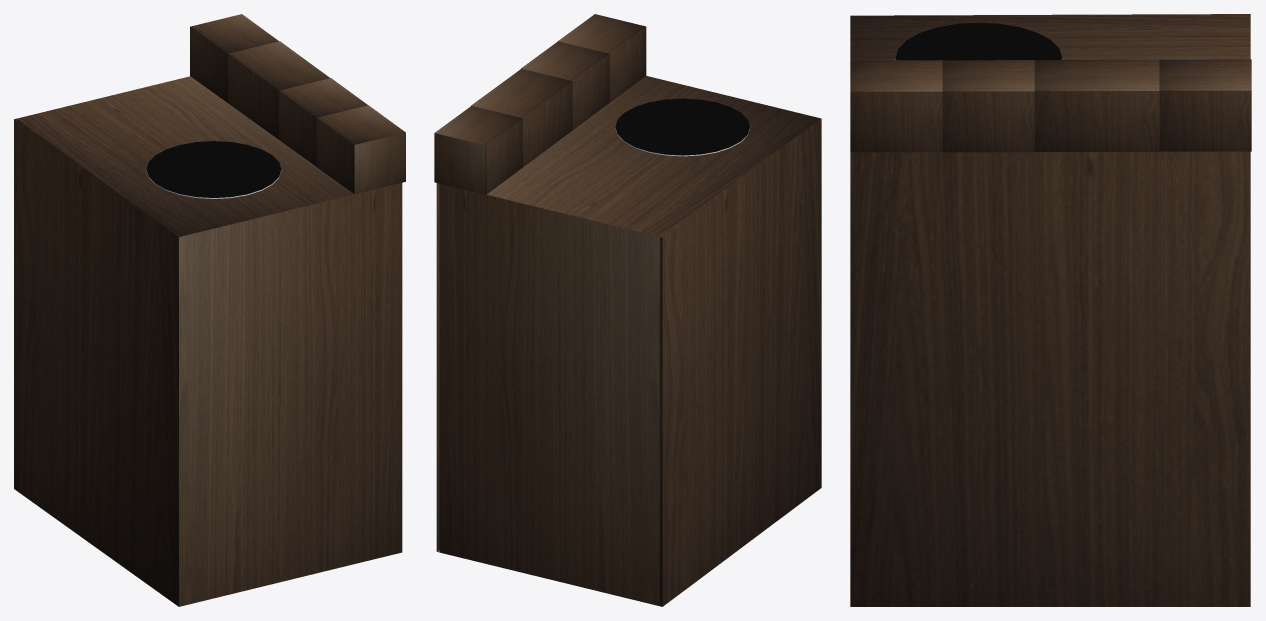
Rendered from condiment.dae.
3 renders of one model, left to right at view 1: azimuth 30°, elevation 25°; view 2: azimuth 150°, elevation 25°; view 3: azimuth 270°, elevation 25°, orthographic. The views are drawn at different scales.
Parts seen in each view (by area): view 1: group_0, group_1, SketchUp, group_3, group_2, group_4; view 2: group_0, group_4, SketchUp, group_3, group_2, group_1; view 3: group_0, group_3, group_1, group_4, group_2, SketchUp.
Part boxes in pixels (x1=…): group_0: x1=14, y1=76, x2=402, y2=606; group_1: x1=316, y1=105, x2=405, y2=194; SketchUp: x1=146, y1=141, x2=281, y2=197; group_3: x1=228, y1=41, x2=329, y2=139; group_2: x1=279, y1=78, x2=367, y2=166; group_4: x1=190, y1=14, x2=278, y2=102; group_0: x1=436, y1=76, x2=821, y2=606; group_4: x1=434, y1=106, x2=522, y2=194; SketchUp: x1=615, y1=98, x2=749, y2=155; group_3: x1=471, y1=68, x2=572, y2=166; group_2: x1=521, y1=41, x2=609, y2=129; group_1: x1=558, y1=14, x2=646, y2=102; group_0: x1=850, y1=14, x2=1250, y2=606; group_3: x1=1034, y1=59, x2=1159, y2=151; group_1: x1=850, y1=60, x2=942, y2=152; group_4: x1=1159, y1=59, x2=1251, y2=151; group_2: x1=942, y1=60, x2=1034, y2=152; SketchUp: x1=895, y1=22, x2=1062, y2=60.
Bounding box in the file's own units: 0.5924 × 0.7253 × 1.03.
Materials: 3 (1 with a texture image).
